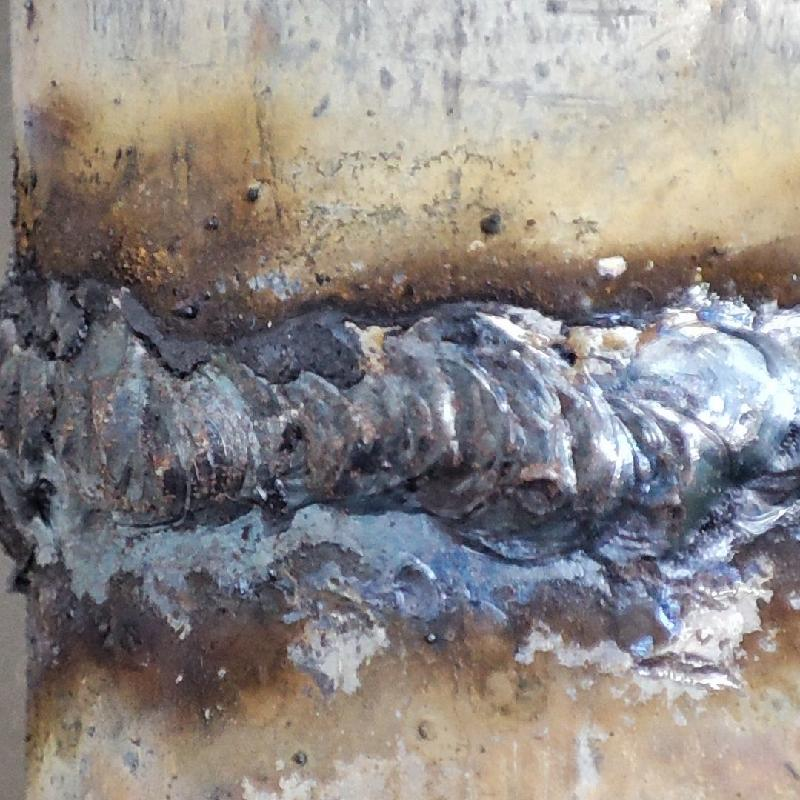Surface_pores: (267, 410, 323, 469)
good: (3, 291, 799, 559)
